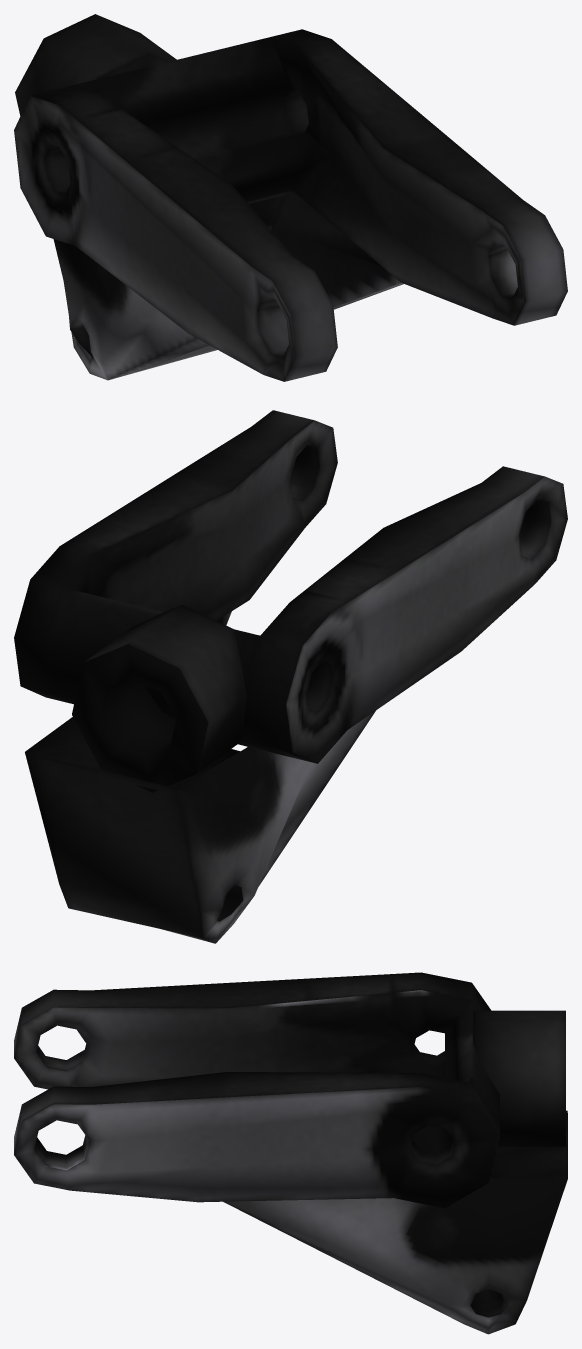
File: r_uglut.obj
The picture shows the model from 3 angles, top to bottom: view 1: azimuth 30°, elevation 25°; view 2: azimuth 150°, elevation 25°; view 3: azimuth 270°, elevation 25°; orthographic projection. The views are drawn at different scales.
Visible parts, largest first — view 1: r_uglut; view 2: r_uglut; view 3: r_uglut.
Part boxes in pixels (left/top/right/bottom): r_uglut: left=14, top=14, right=567, bottom=381; r_uglut: left=14, top=410, right=567, bottom=943; r_uglut: left=14, top=972, right=567, bottom=1334.
Bounding box in the file's own units: 0.0823 × 0.0922 × 0.1684.
